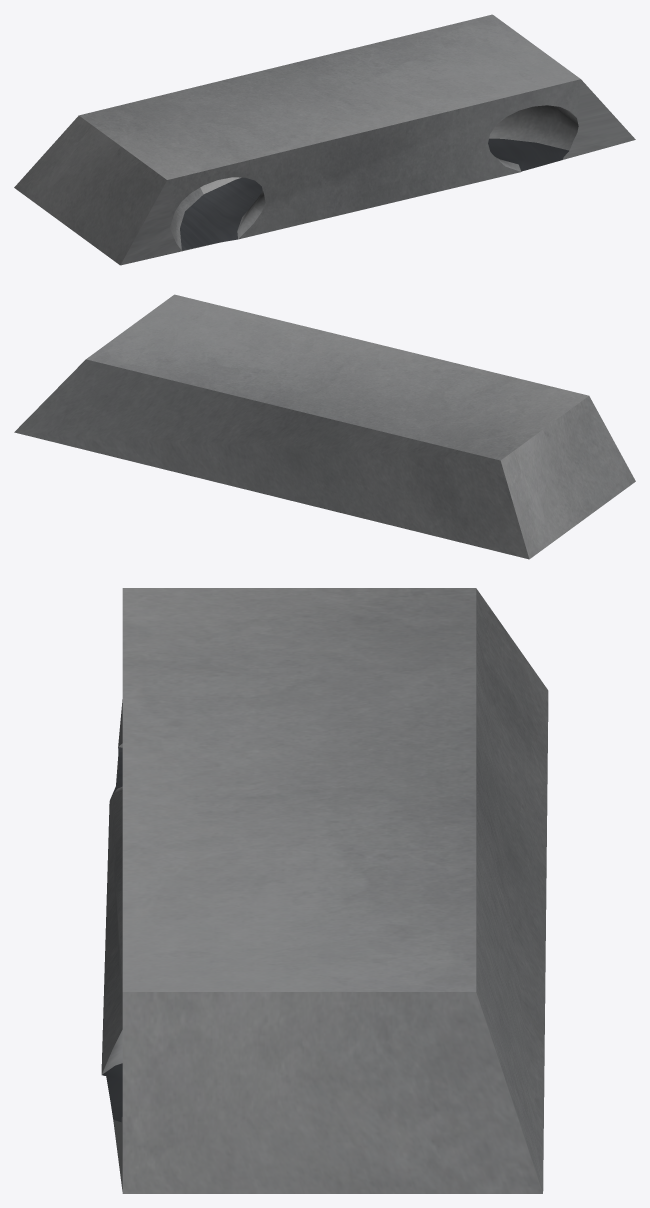
Rendered from tunnel.fbx.
3 views of the same model, one above another, from view 1: azimuth 30°, elevation 25°; view 2: azimuth 150°, elevation 25°; view 3: azimuth 270°, elevation 25° (orthographic). The views are drawn at different scales.
Parts seen in each view (by area): view 1: pCube2; view 2: pCube2; view 3: pCube2.
Boxes of the visible parts, box(x1,y1,x2,y2) form: pCube2: box(14, 14, 635, 265); pCube2: box(14, 294, 635, 559); pCube2: box(101, 588, 548, 1193).
Size of the model in its own units: 51.98 by 7.14 by 19.51.
Materials: 2 (2 with a texture image).
